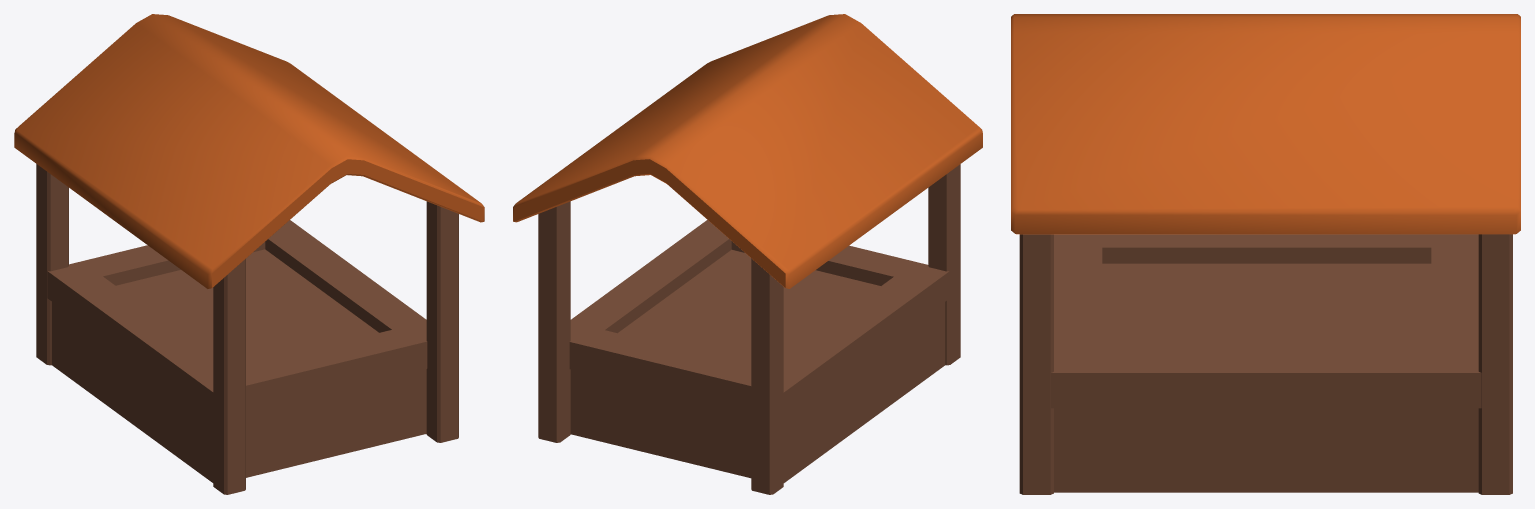
File: Market1.FBX
3 renders of one model, left to right at view 1: azimuth 30°, elevation 25°; view 2: azimuth 150°, elevation 25°; view 3: azimuth 270°, elevation 25°, orthographic. The views are drawn at different scales.
Visible parts, largest first — view 1: Market1; view 2: Market1; view 3: Market1.
Boxes of the visible parts, x1,y1,x2,y2 form: Market1: (14,14,484,494); Market1: (513,14,982,494); Market1: (1011,14,1520,494).
Bounding box in the file's own units: 154 × 165 × 189.
